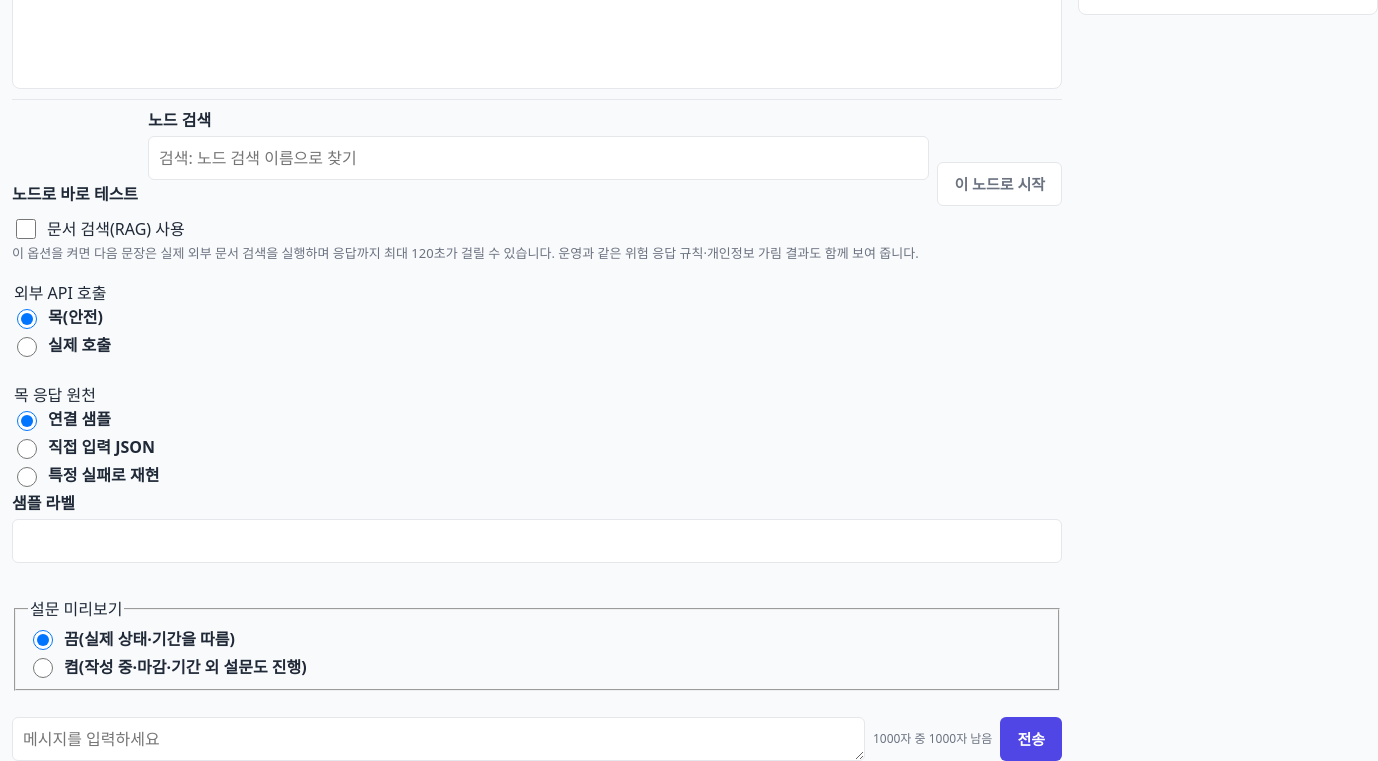
SimulatorPanel — 바로연결 칩 사용 후 숨김(RM-6, D-4) › "대화 초기화" 후 같은 응답을 다시 받으면 칩이 복원된다(사라진 칩이 스스로 복원되지는 않음)
(page scrolled)
In the text box named "메시지 입력": (438, 739) x1=12 y1=717 x2=865 y2=760, type "안녕하세요"
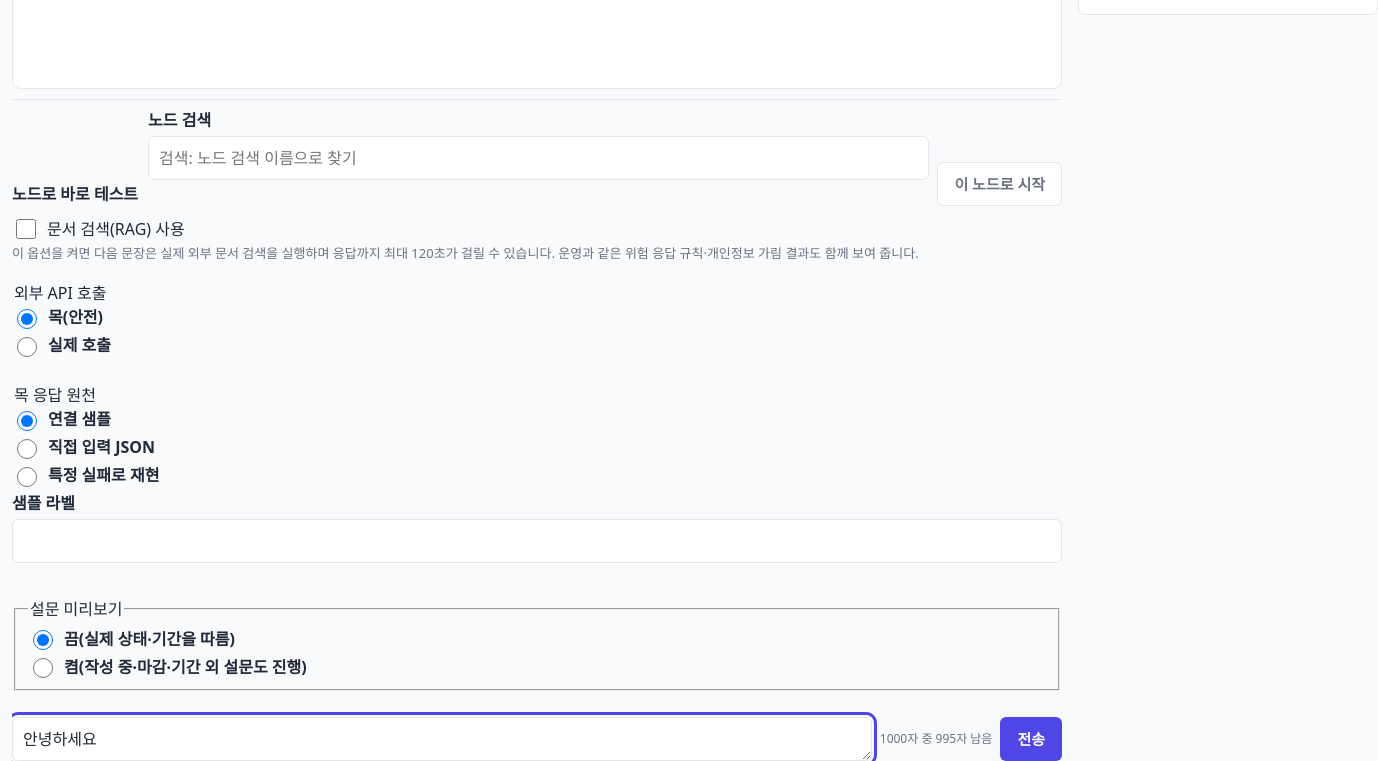
Click the button "전송": click(1031, 739) x1=1000 y1=717 x2=1062 y2=760
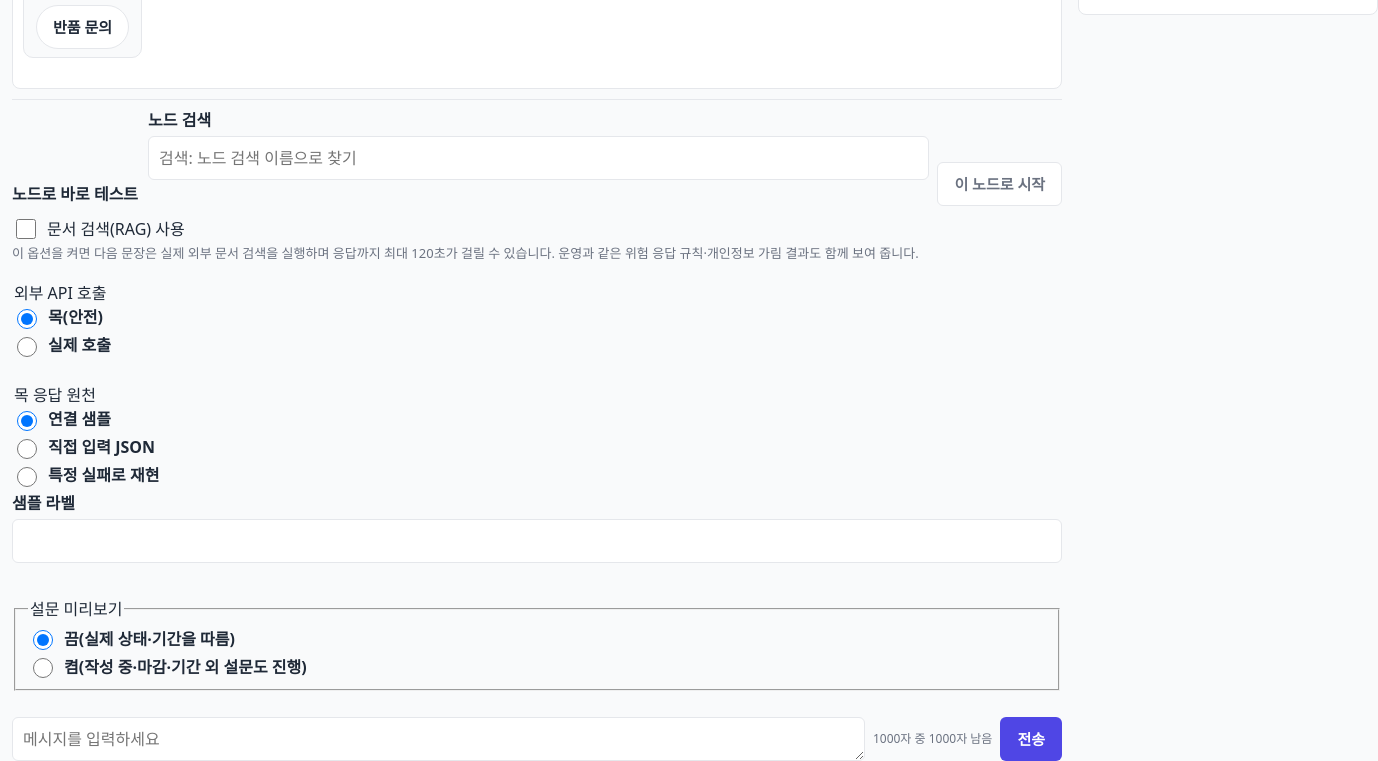
Expected: the button "반품 문의" is shown
Click the button "반품 문의": click(83, 26) x1=36 y1=4 x2=129 y2=48
(page scrolled)
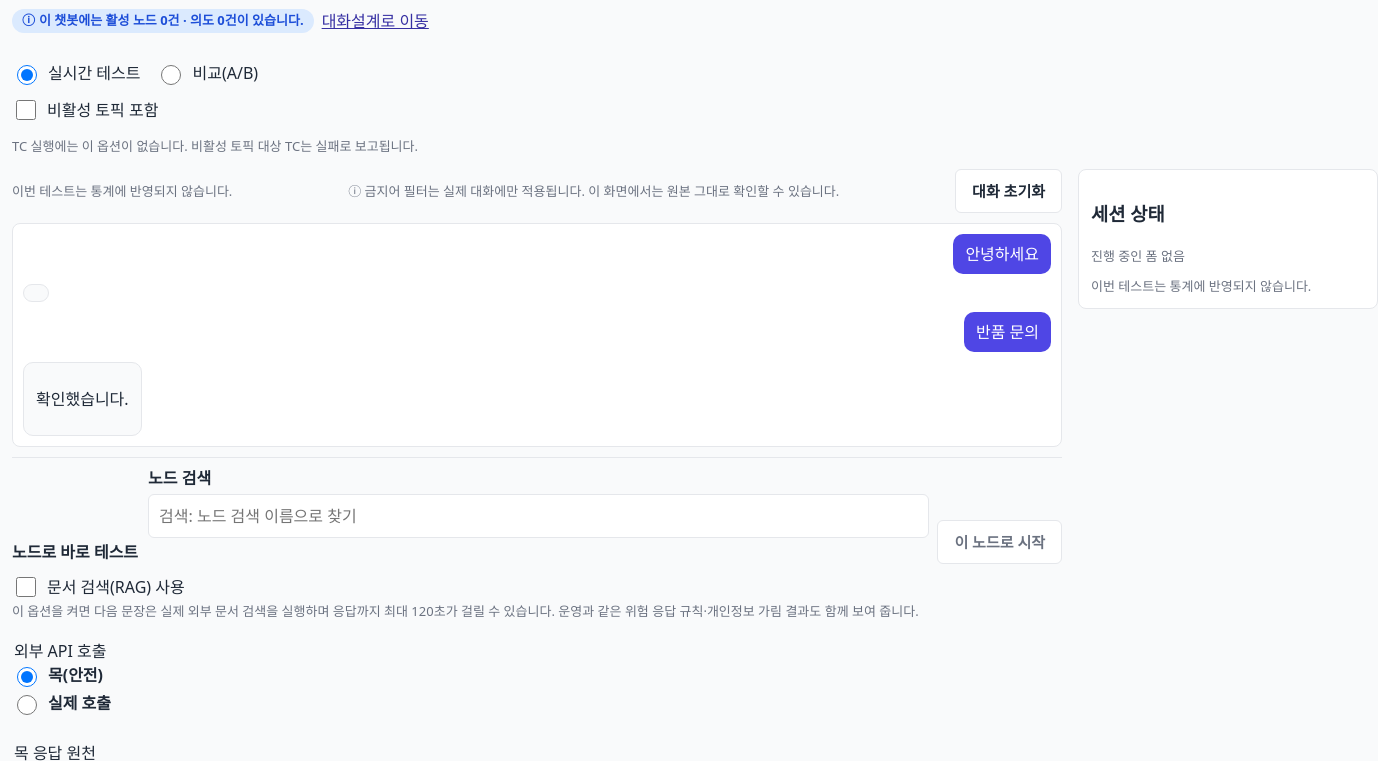
Expected: the text "확인했습니다." is shown, x1=36 y1=386 x2=129 y2=410
Click the button "대화 초기화": click(1009, 190) x1=955 y1=168 x2=1062 y2=212
(page scrolled)
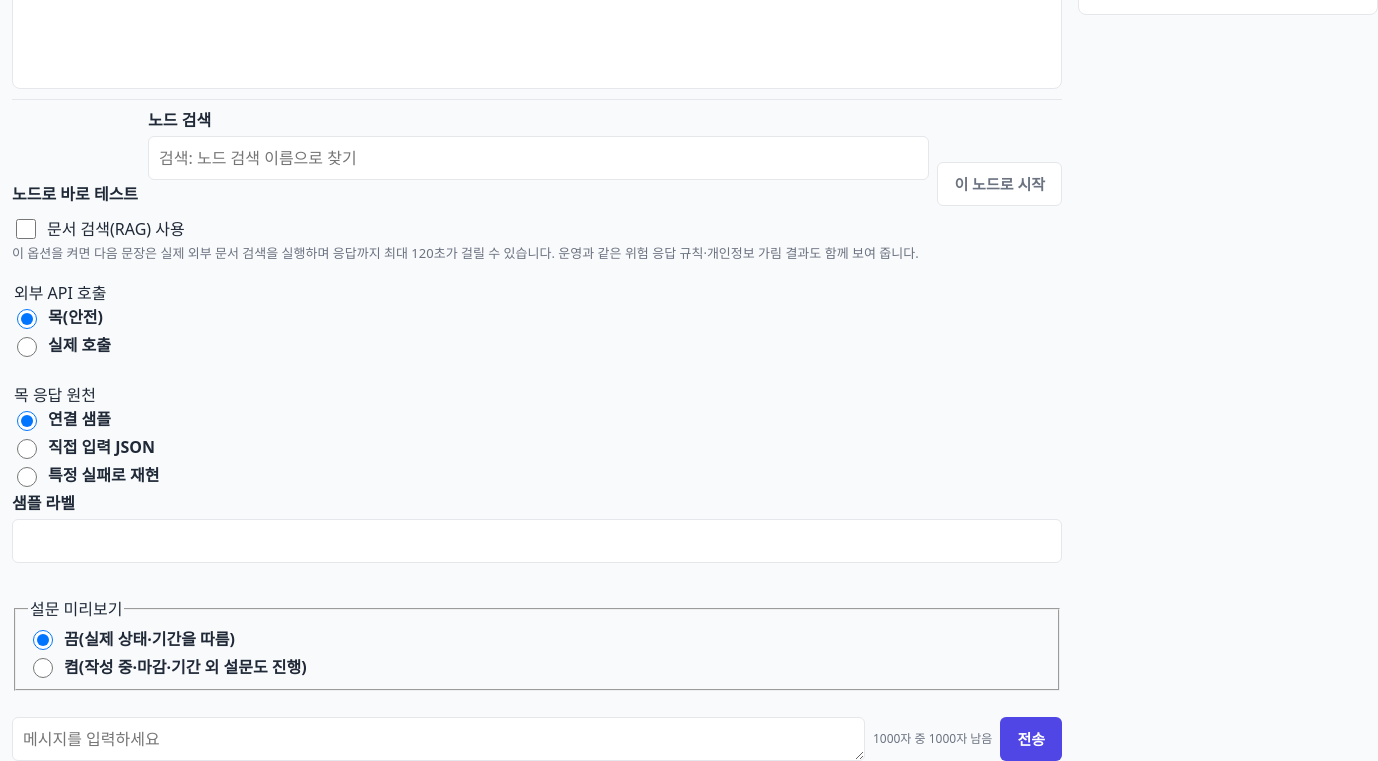
In the text box named "메시지 입력": (438, 739) x1=12 y1=717 x2=865 y2=760, type "다시 안녕하세요"
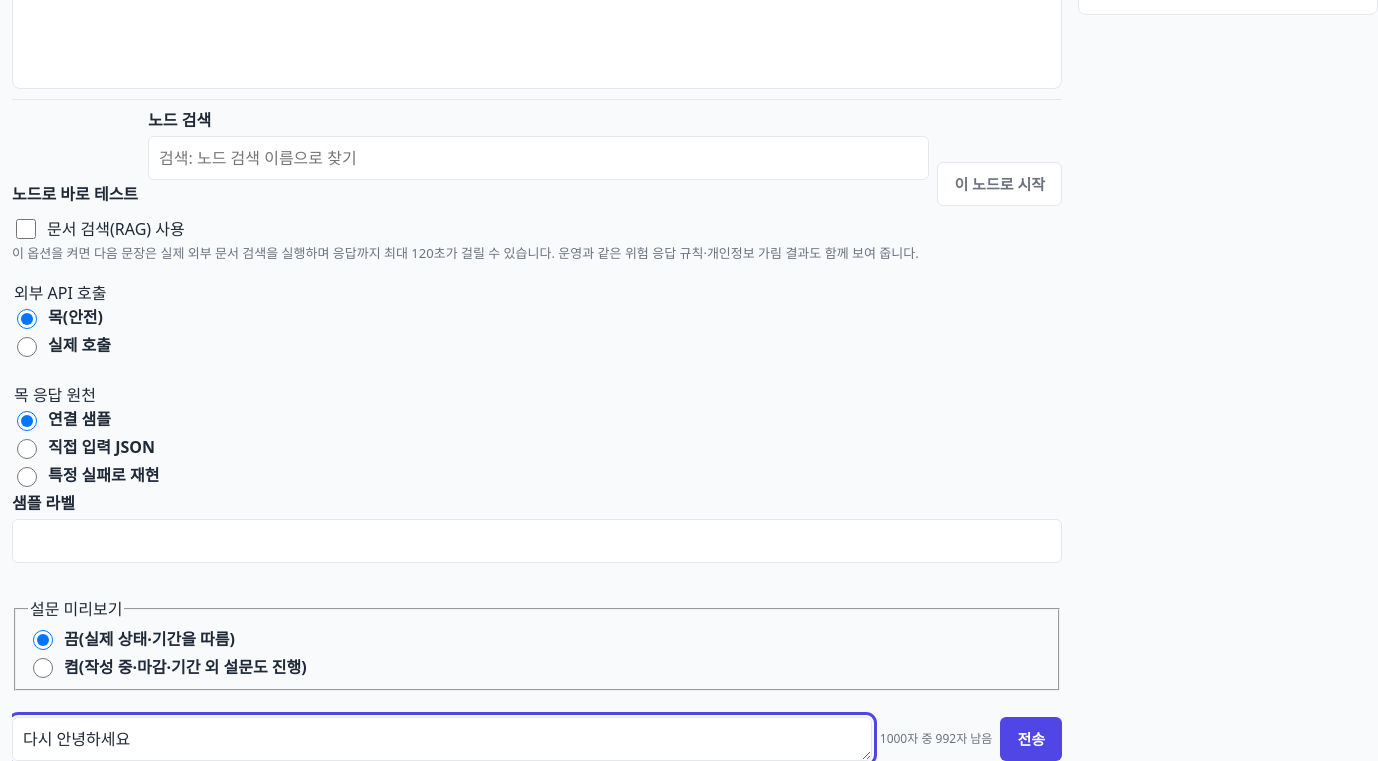
Click the button "전송": click(1031, 739) x1=1000 y1=717 x2=1062 y2=760
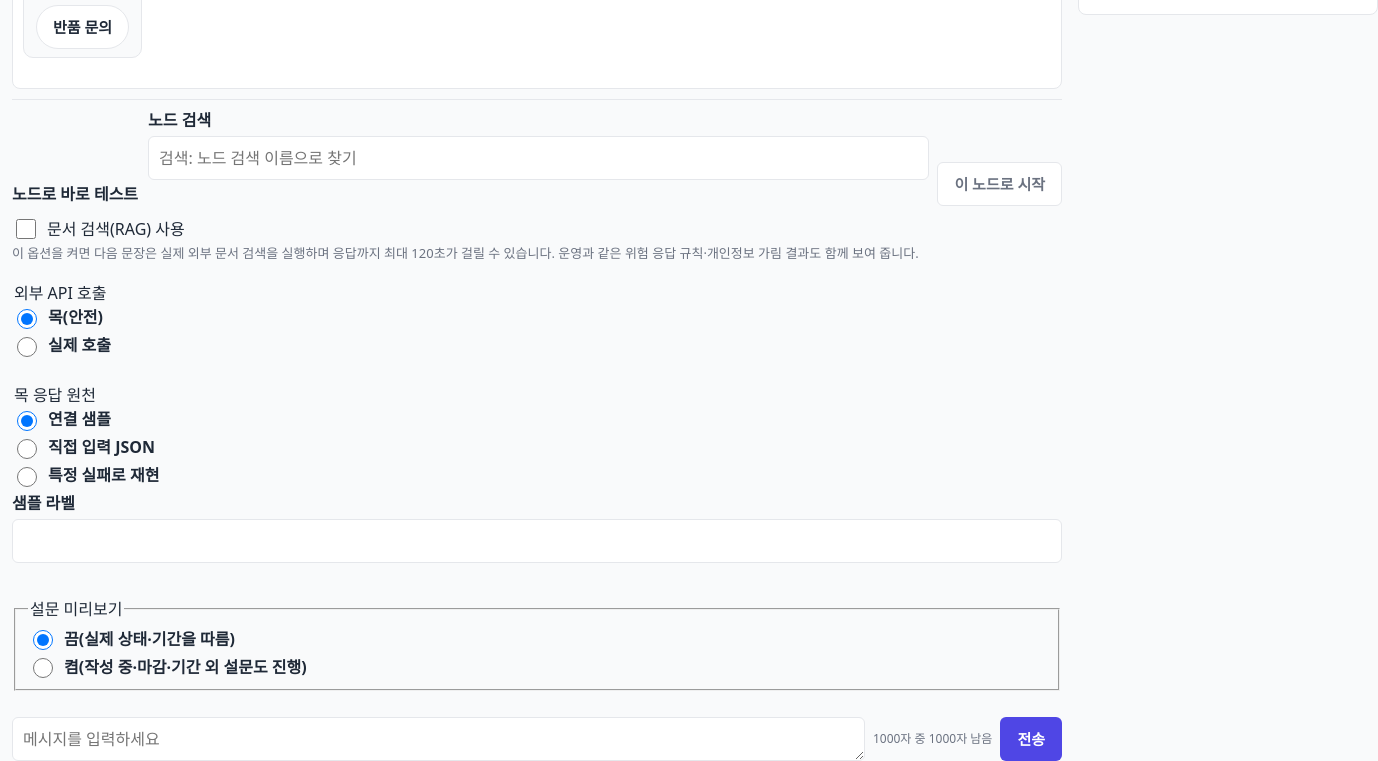
Expected: the button "반품 문의" is shown, x1=36 y1=4 x2=129 y2=48
